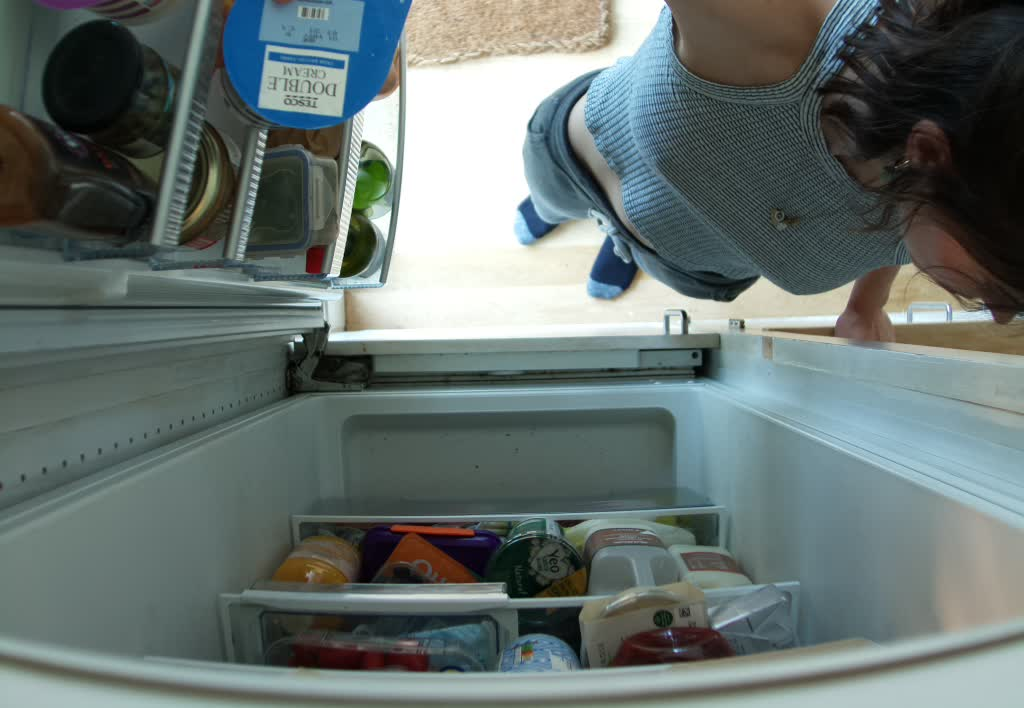cream: (219, 1, 419, 138)
